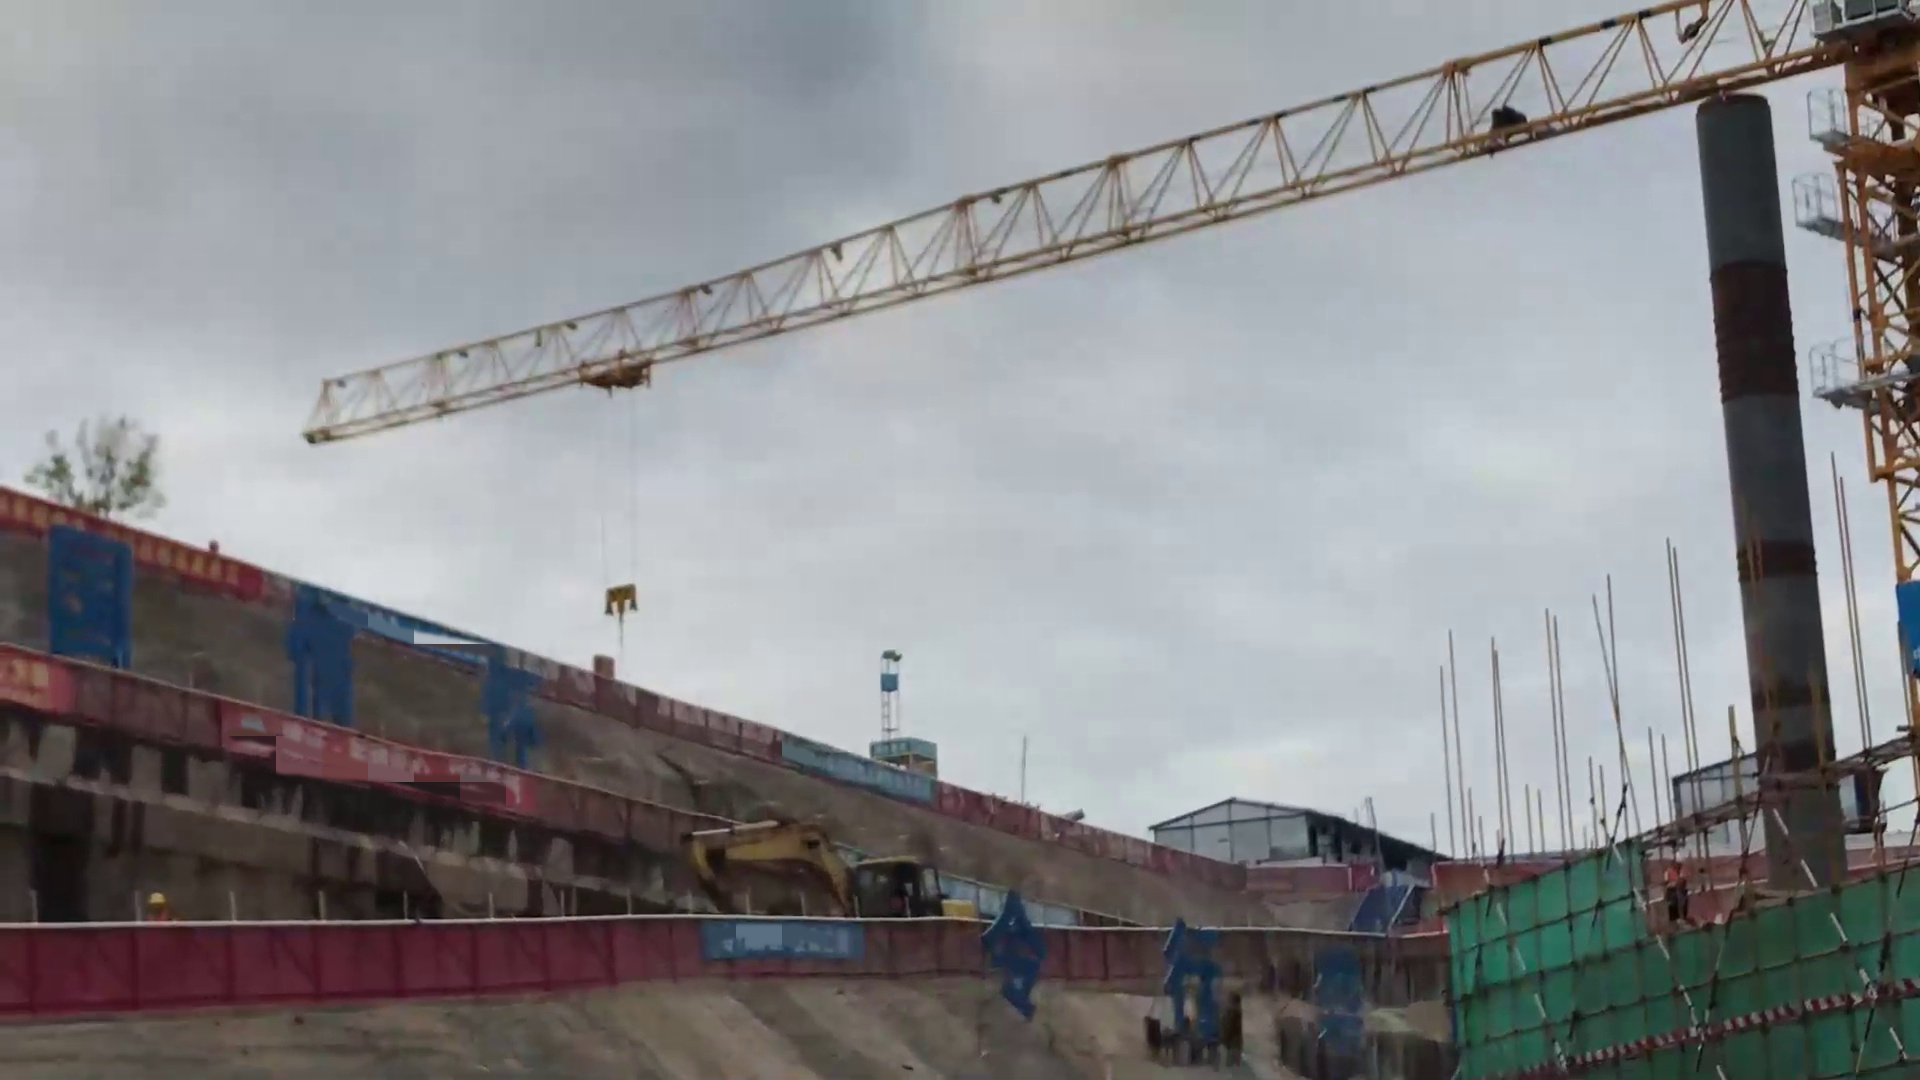fence: (1, 918, 278, 1023)
hook: (603, 582, 640, 626)
slogan: (7, 483, 272, 596), (258, 713, 533, 811)
